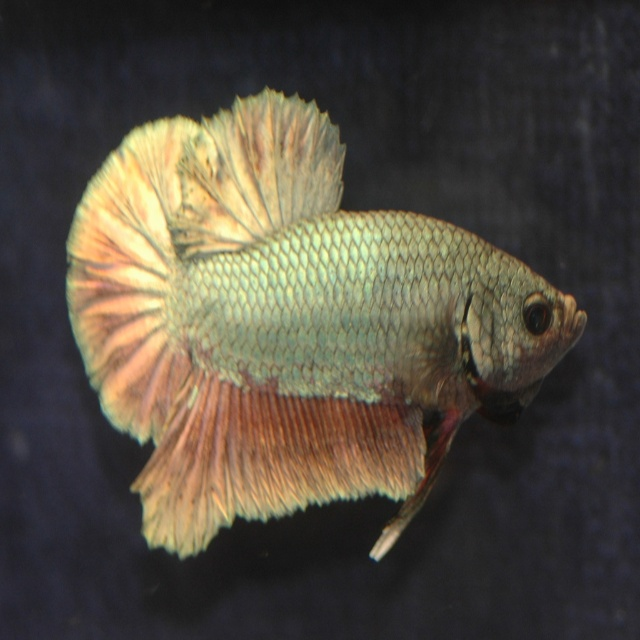Fish: (64, 82, 587, 565)
